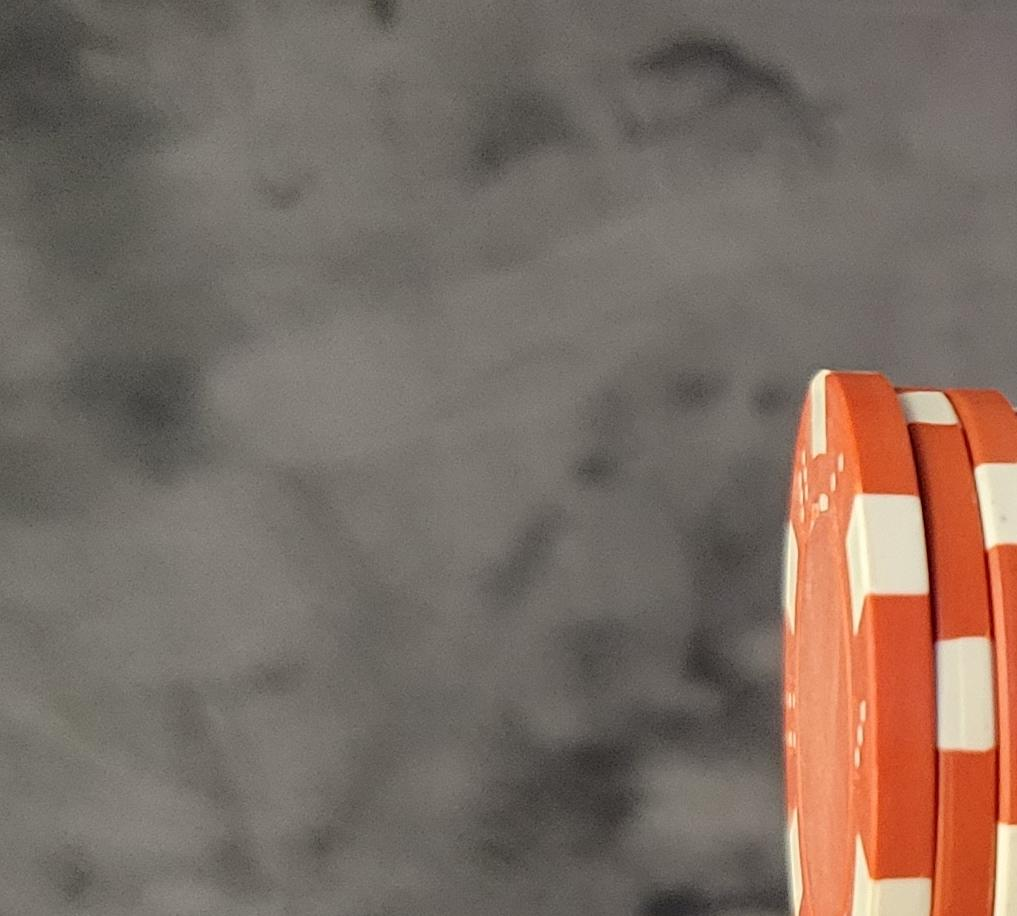Chip: (1, 267, 666, 916)
